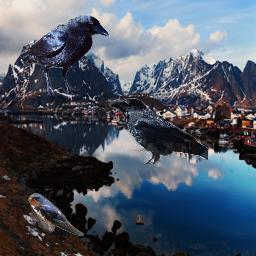Crow: (23, 15, 109, 98), (108, 98, 208, 164)
Swallow: (28, 193, 84, 236)
